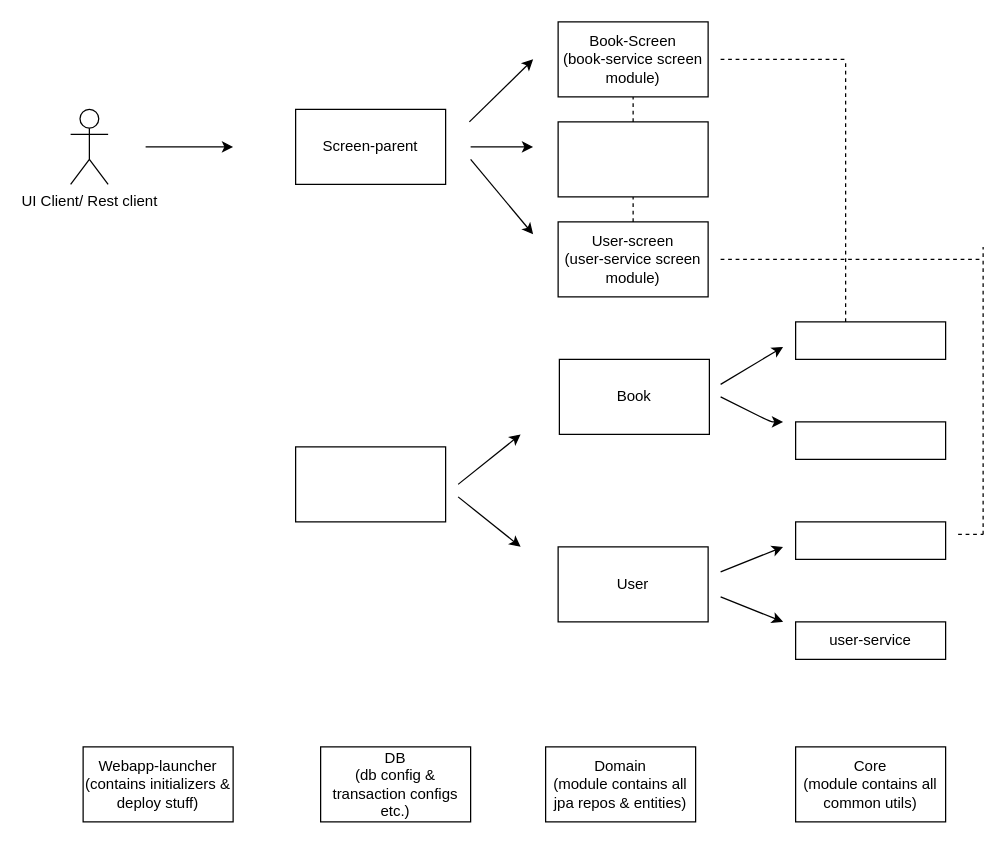
This 1006x844 diagram has some shape labels left out. Each missing label, with the centre of its shape:
"Backendservice-parent (business logic modules)" belongs at point (370, 484).
"book-api" belongs at point (870, 340).
"book-service" belongs at point (870, 440).
"Screen-common (contains all screen core packages & utils)" belongs at point (632, 159).
"user-api" belongs at point (870, 540).
